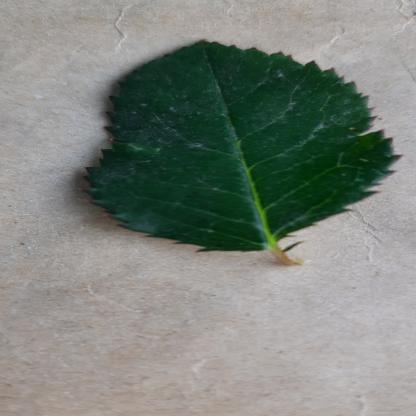normal: (76, 38, 396, 252)
